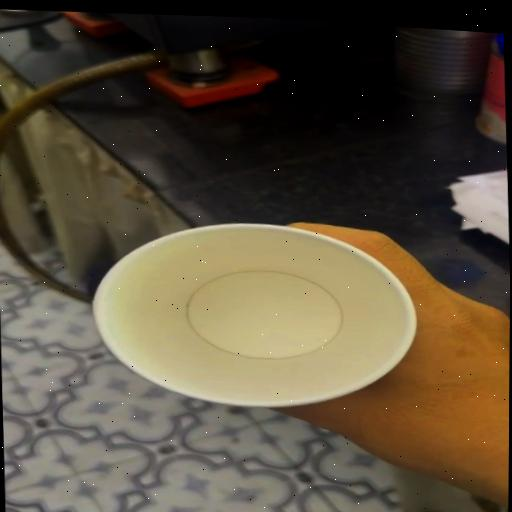Ly_giay: (93, 223, 416, 407)
